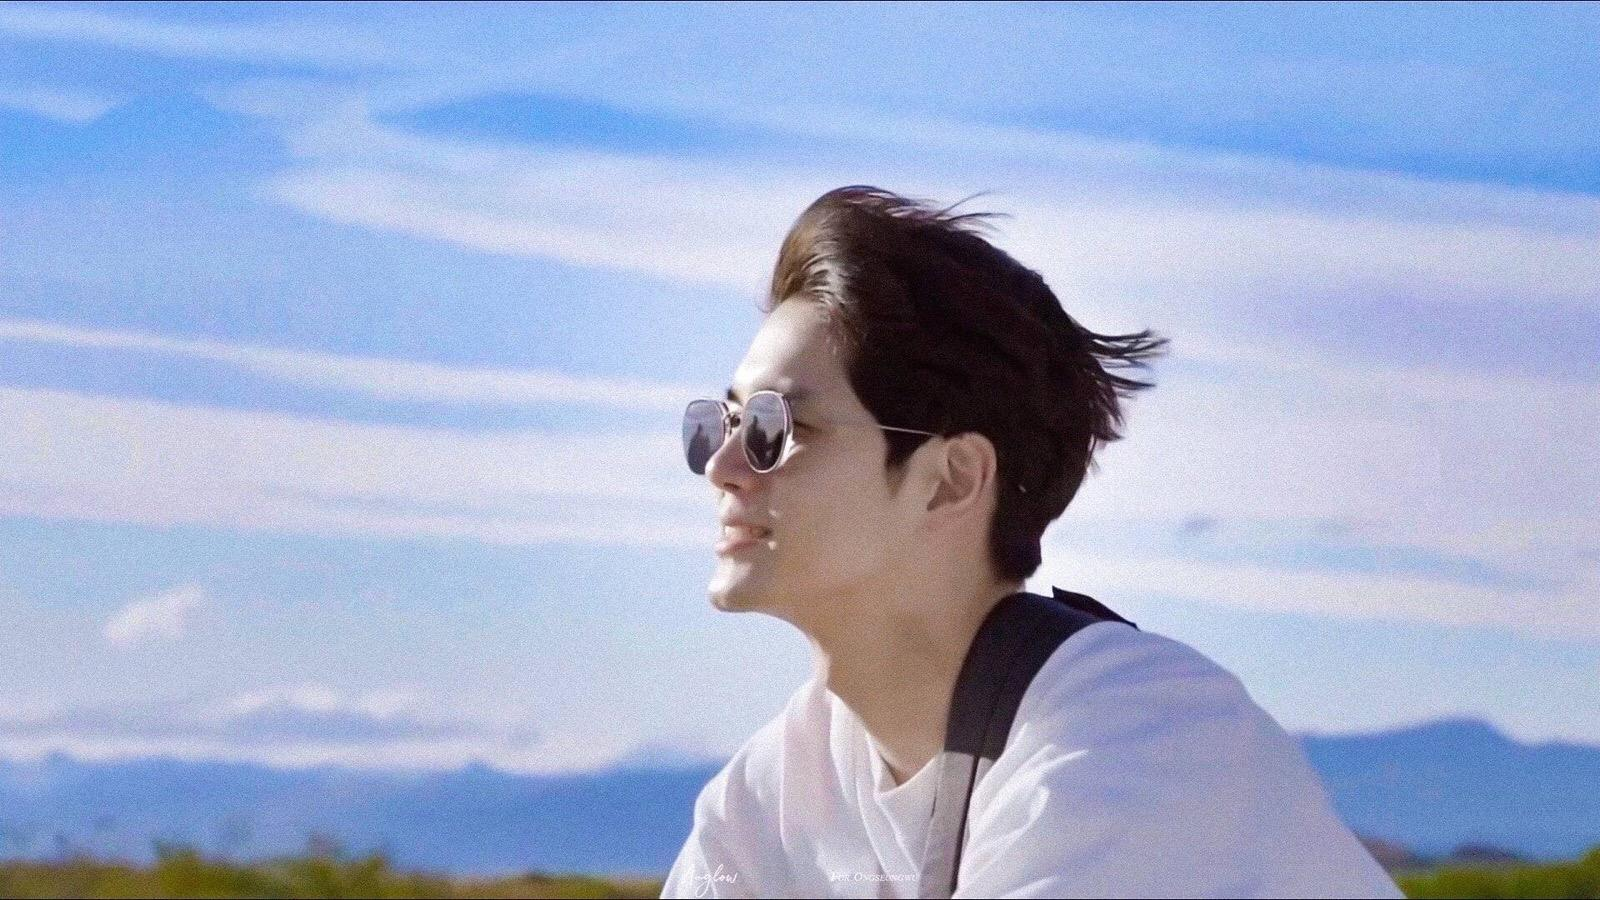person: (620, 197, 1168, 712)
